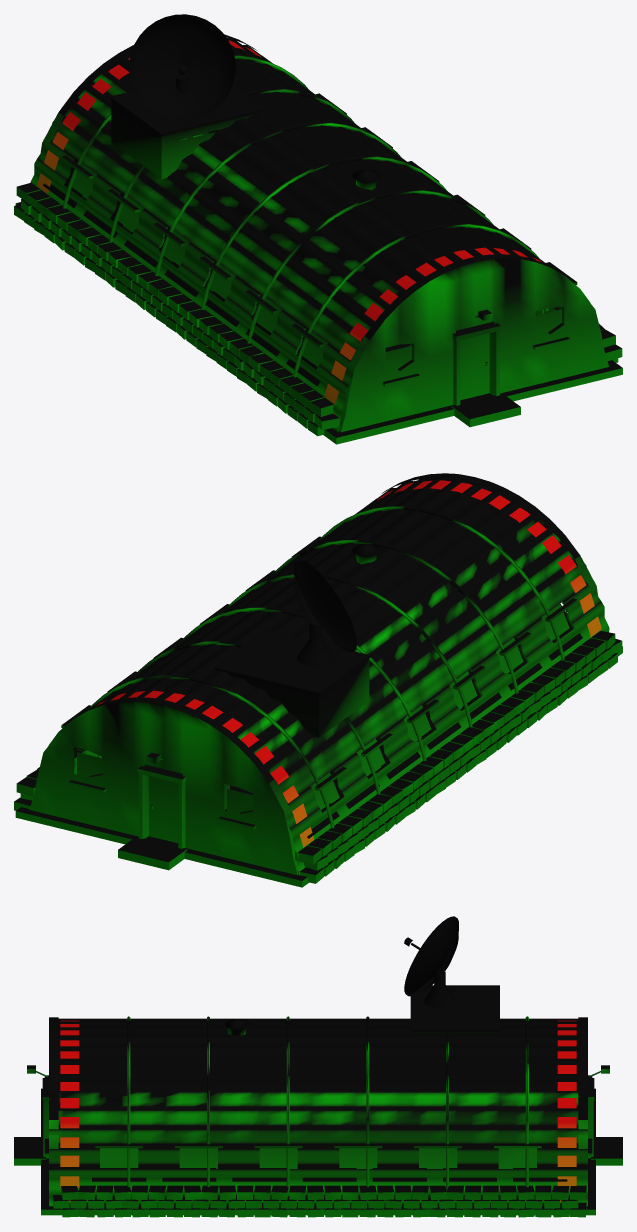
Rendered from quonset2.glb.
The picture shows the model from 3 angles, top to bottom: view 1: azimuth 30°, elevation 25°; view 2: azimuth 150°, elevation 25°; view 3: azimuth 270°, elevation 25°; orthographic projection. The views are drawn at different scales.
Parts seen in each view (by area): view 1: lod0; view 2: lod0; view 3: lod0.
Part boxes in pixels (x1,y1,x2,y2): lod0: (14,14,622,444); lod0: (14,473,622,887); lod0: (14,916,622,1217).
Size of what is drawn, in the model's own units: 9.49 by 7.2 by 19.1.
